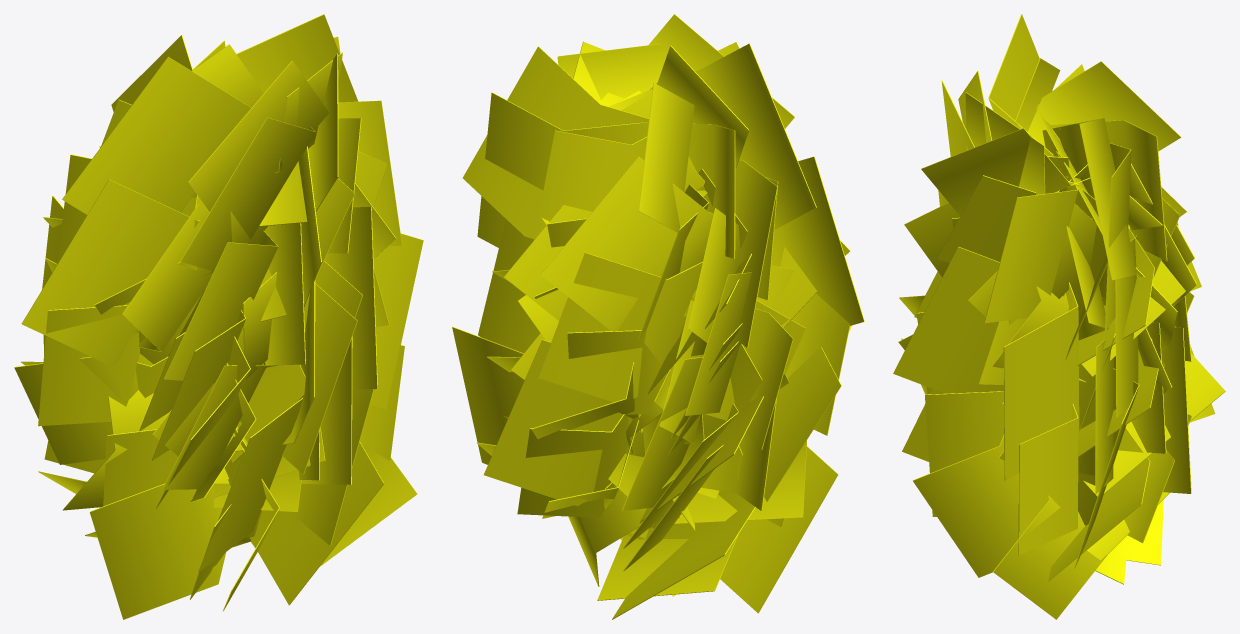
Rendered from wata (1).fbx.
The picture shows the model from 3 angles, left to right: view 1: azimuth 30°, elevation 25°; view 2: azimuth 150°, elevation 25°; view 3: azimuth 270°, elevation 25°; orthographic projection. The views are drawn at different scales.
Visible parts, largest first — view 1: polySurface64, polySurface20, polySurface84, polySurface49, polySurface89, polySurface83, polySurface80, polySurface96, polySurface50, polySurface31, polySurface75, polySurface73 (+39 smaller); view 2: polySurface46, polySurface99, polySurface66, polySurface63, polySurface64, polySurface59, polySurface84, polySurface20, polySurface33, polySurface52, polySurface58, polySurface37 (+34 smaller); view 3: polySurface73, polySurface60, polySurface83, polySurface77, polySurface25, polySurface58, polySurface91, polySurface43, polySurface51, polySurface63, polySurface21, polySurface33 (+34 smaller).
Boxes of the visible parts, x1=… form: polySurface64: x1=62, y1=56, x2=251, y2=214; polySurface20: x1=21, y1=179, x2=199, y2=365; polySurface84: x1=89, y1=483, x2=226, y2=619; polySurface49: x1=180, y1=117, x2=315, y2=271; polySurface89: x1=38, y1=305, x2=139, y2=426; polySurface83: x1=250, y1=441, x2=384, y2=605; polySurface80: x1=164, y1=230, x2=278, y2=383; polySurface96: x1=122, y1=203, x2=211, y2=351; polySurface50: x1=198, y1=398, x2=302, y2=572; polySurface31: x1=188, y1=60, x2=328, y2=211; polySurface75: x1=282, y1=283, x2=357, y2=474; polySurface73: x1=324, y1=206, x2=377, y2=389; polySurface46: x1=538, y1=252, x2=702, y2=402; polySurface99: x1=541, y1=156, x2=713, y2=331; polySurface66: x1=484, y1=339, x2=632, y2=506; polySurface63: x1=462, y1=46, x2=649, y2=238; polySurface64: x1=609, y1=43, x2=816, y2=229; polySurface59: x1=477, y1=92, x2=648, y2=247; polySurface84: x1=630, y1=446, x2=838, y2=613; polySurface20: x1=771, y1=156, x2=864, y2=325; polySurface33: x1=533, y1=130, x2=646, y2=240; polySurface52: x1=755, y1=300, x2=841, y2=501; polySurface58: x1=638, y1=83, x2=694, y2=233; polySurface37: x1=452, y1=326, x2=524, y2=464; polySurface73: x1=893, y1=246, x2=999, y2=393; polySurface60: x1=1003, y1=282, x2=1079, y2=480; polySurface83: x1=912, y1=434, x2=1018, y2=577; polySurface77: x1=984, y1=171, x2=1078, y2=323; polySurface25: x1=1018, y1=404, x2=1078, y2=555; polySurface58: x1=1027, y1=61, x2=1181, y2=151; polySurface91: x1=925, y1=391, x2=1004, y2=516; polySurface43: x1=993, y1=495, x2=1107, y2=619; polySurface51: x1=921, y1=128, x2=1090, y2=215; polySurface63: x1=1042, y1=118, x2=1136, y2=281; polySurface21: x1=937, y1=164, x2=1087, y2=262; polySurface33: x1=1050, y1=120, x2=1167, y2=261.
Bounding box in the file's own units: 54.74 × 78.74 × 43.69.
